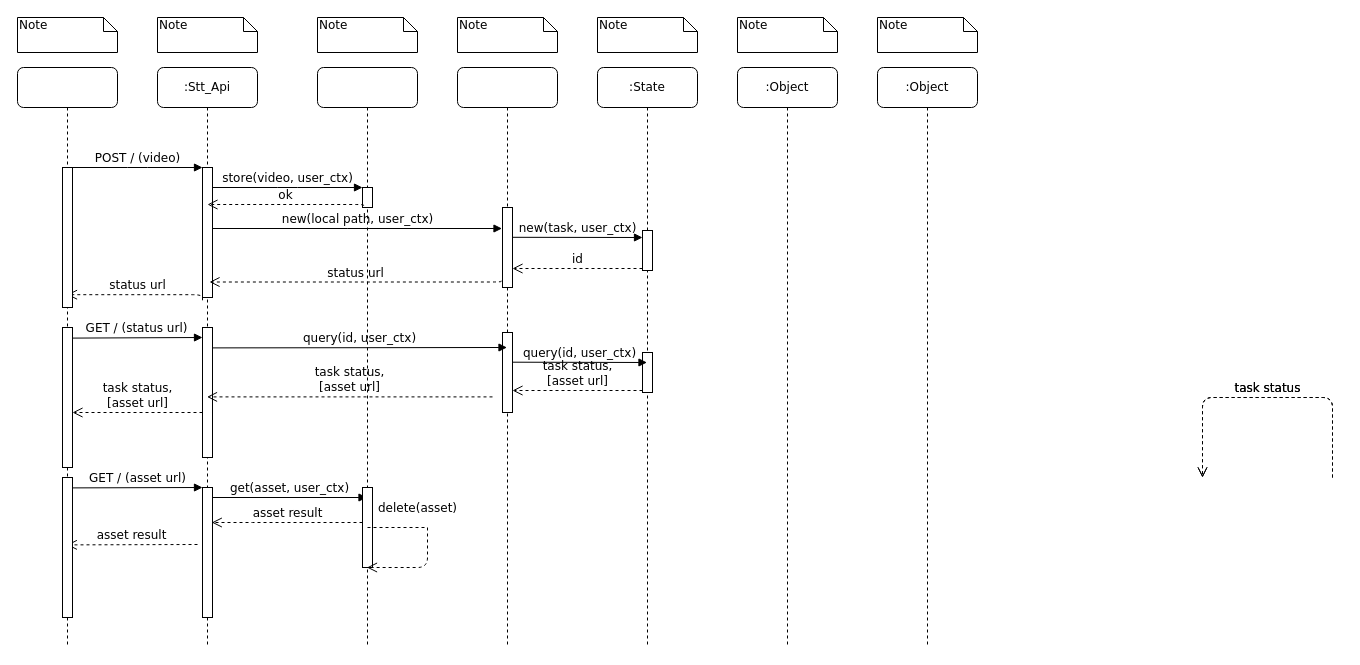
Some shapes in this 1360 by 665 pixel diagram are drawn without their labels. Here are the shapes that lost their labels. From the top down, the centre of each, then its label:
At (67,357): "User".
At (367,357): ":Storage_Mgr".
At (507,357): ":State_Mgr".
